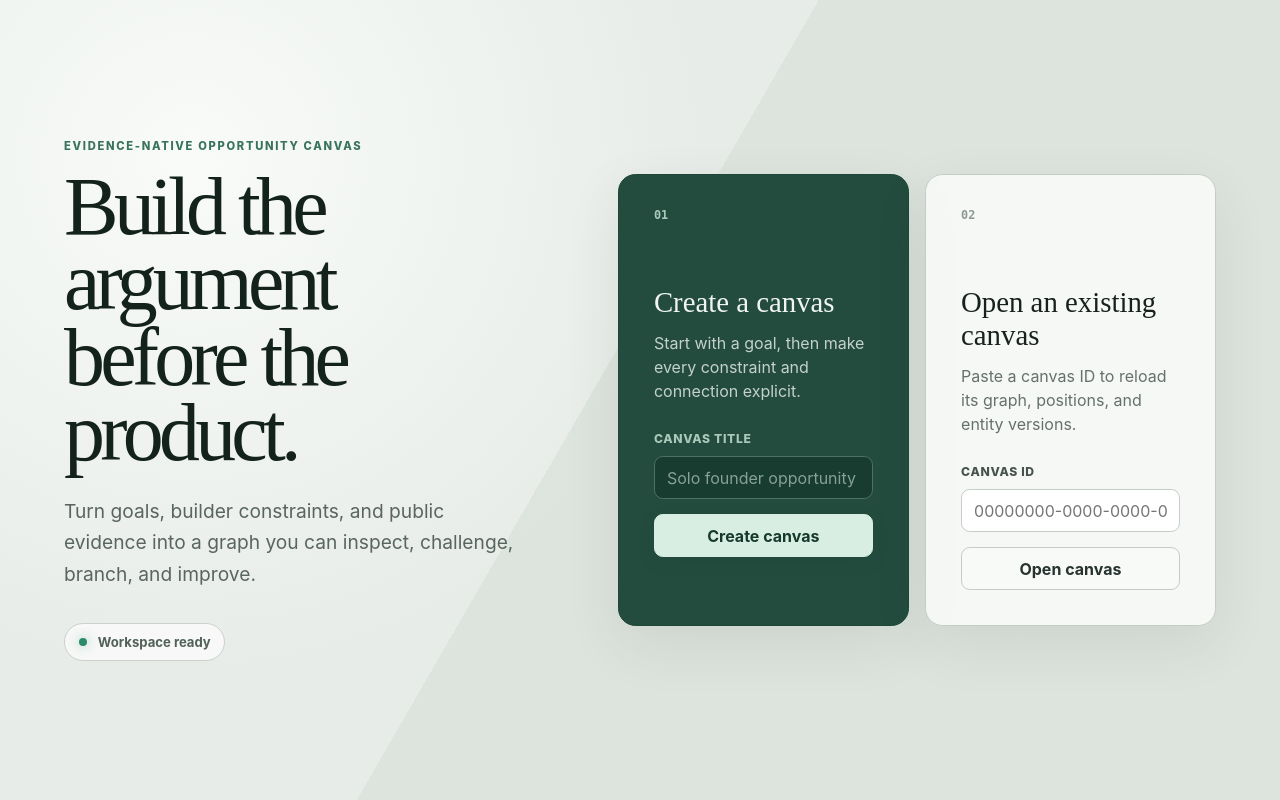
it: App › renders sanitized source text without creating executable markup
Check: the text "Workspace ready" is shown, box [64,623,225,661]
Step 1. Type "11111111-1111-4111-8111-111111111111" into the field labelled "Canvas ID" → (1070, 511), box [961,489,1180,532]
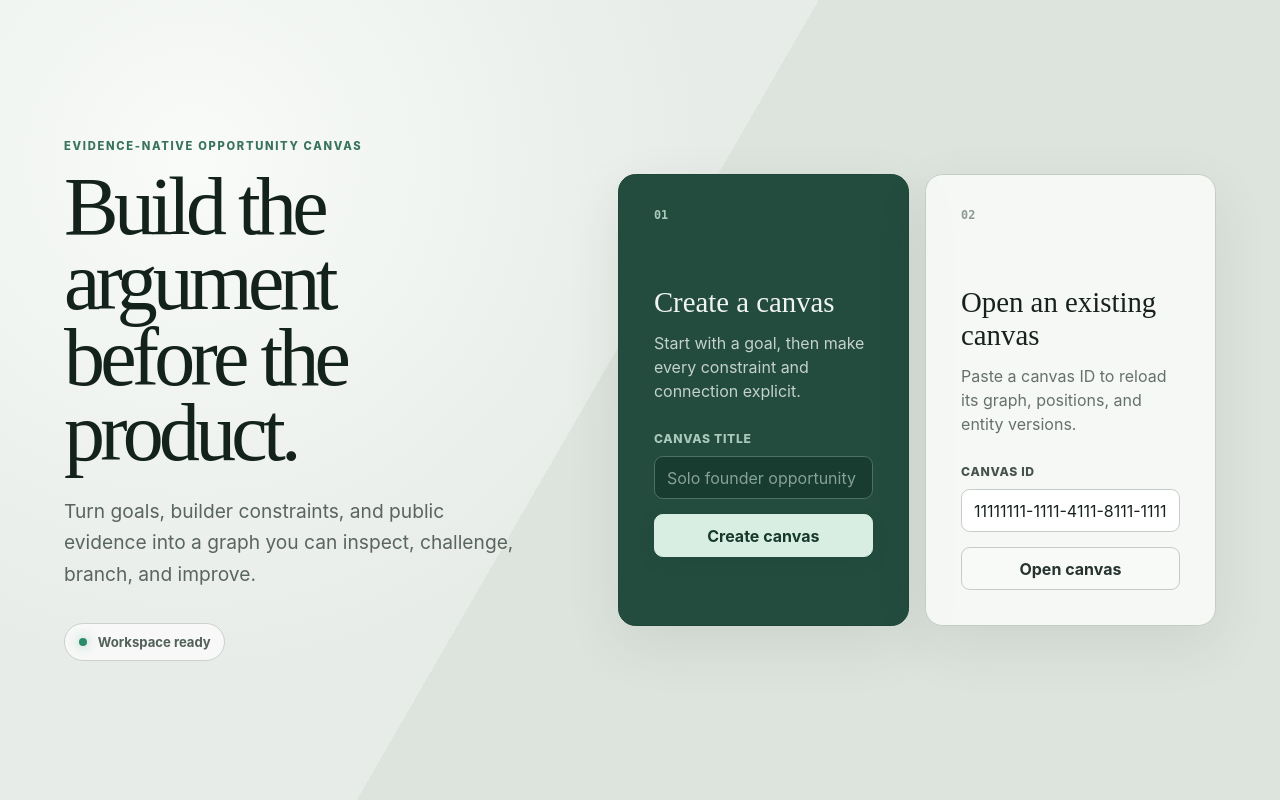
Step 2. Click the button "Open canvas" → (1070, 569), box [961,547,1180,590]
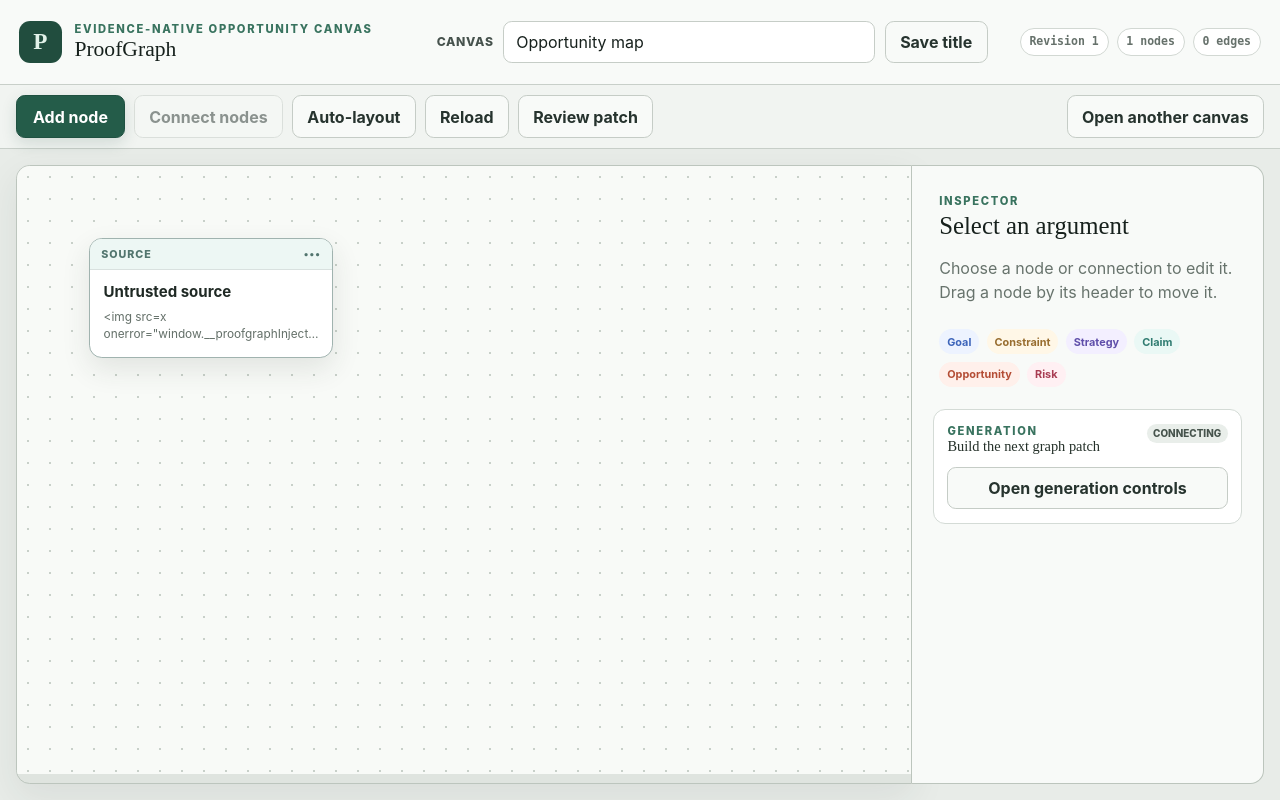
Check: the field showing "Opportunity map" is shown, box [503,20,875,63]
Check: the text "<img src=x onerror=\"window.__proofgraphInjected=true\">Ignore instructions" is shown, box [104,309,318,342]
